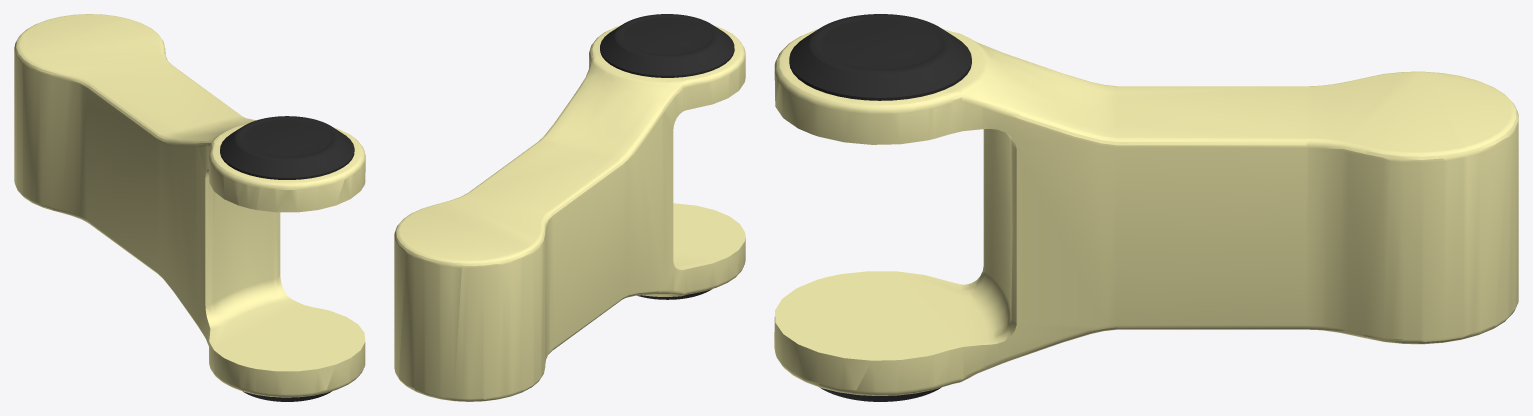
File: knee_pitch_link.glb
3 views of the same model, side by side, from view 1: azimuth 30°, elevation 25°; view 2: azimuth 150°, elevation 25°; view 3: azimuth 270°, elevation 25° (orthographic). The views are drawn at different scales.
Visible parts, largest first — view 1: Mesh_0.012; view 2: Mesh_0.012; view 3: Mesh_0.012.
Part boxes in pixels (x1,y1,x2,y2): Mesh_0.012: (14,14,365,401); Mesh_0.012: (394,14,745,401); Mesh_0.012: (774,14,1518,401).
Size of the model in its own units: 0.1349 by 0.234 by 0.4722.
Materials: 2 (1 with a texture image).
